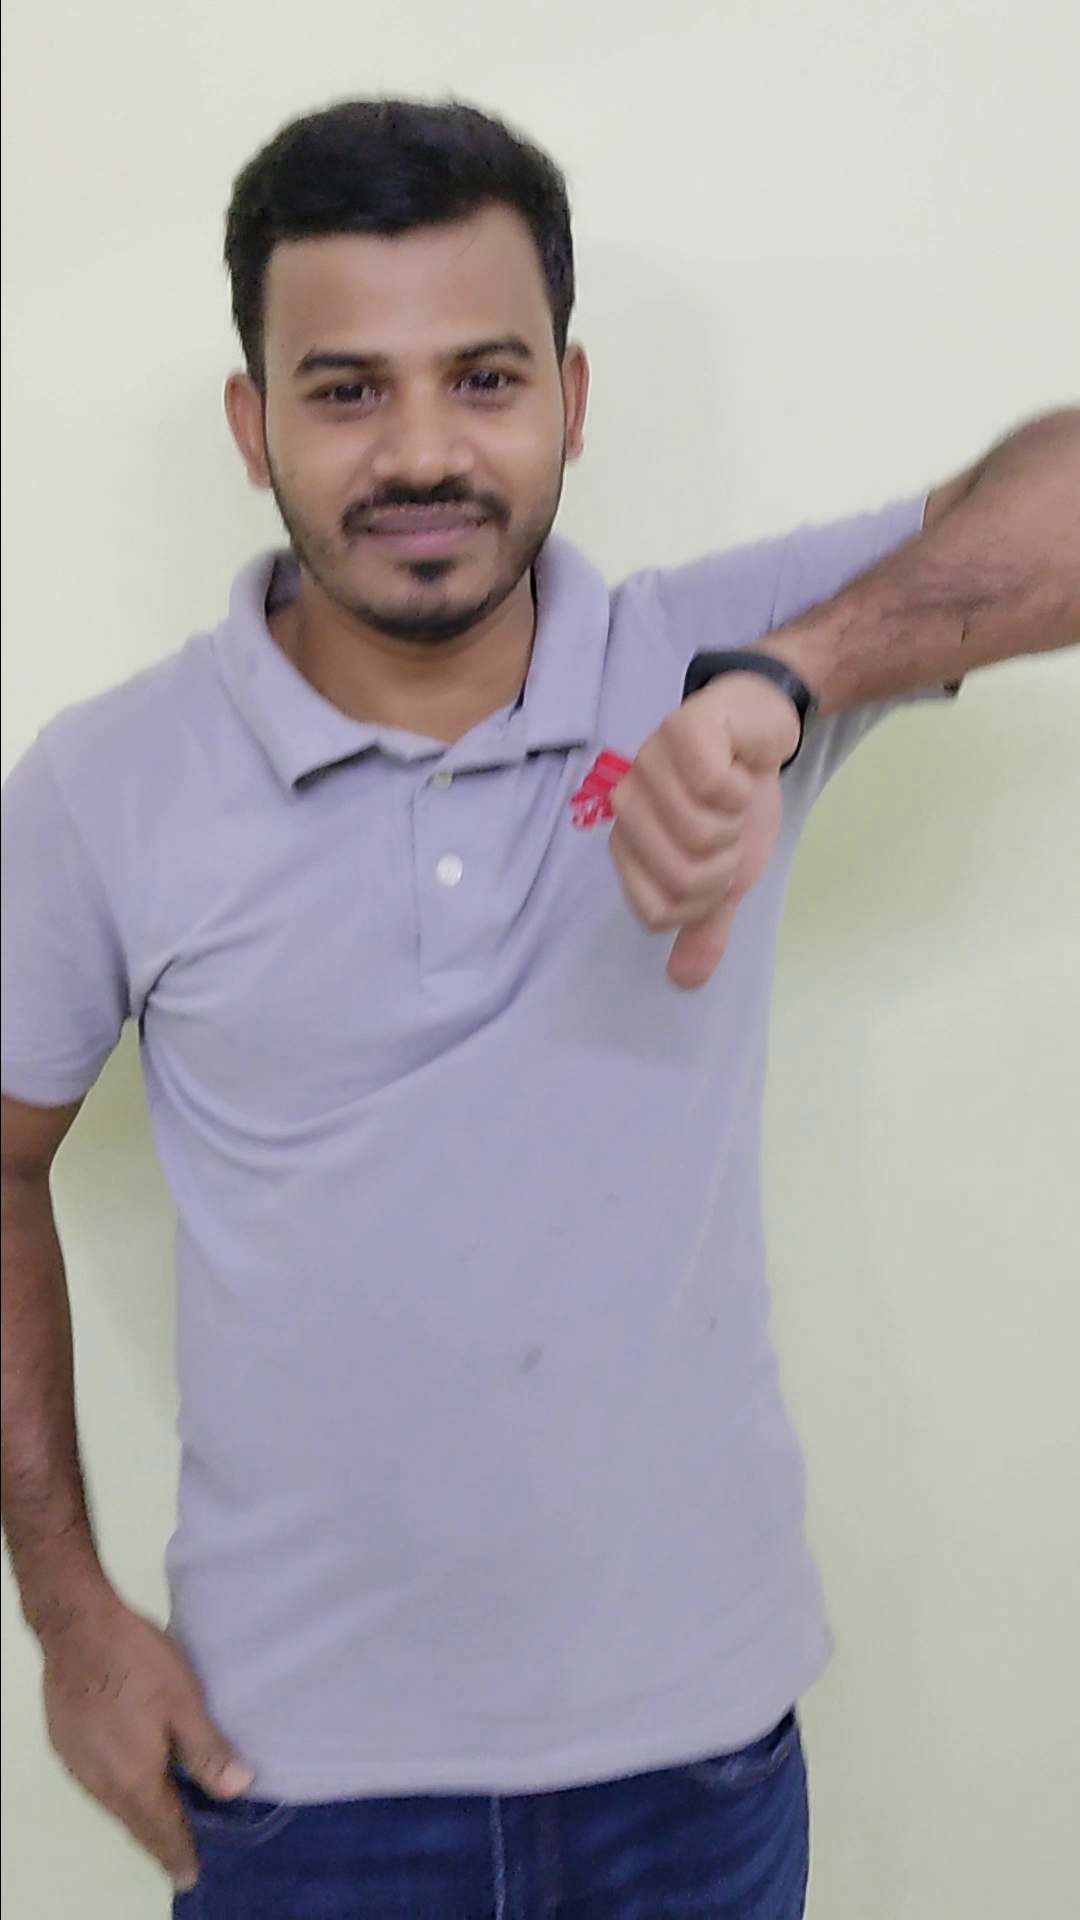Dislike: (589, 634, 818, 1007)
None: (18, 1584, 258, 1898)
